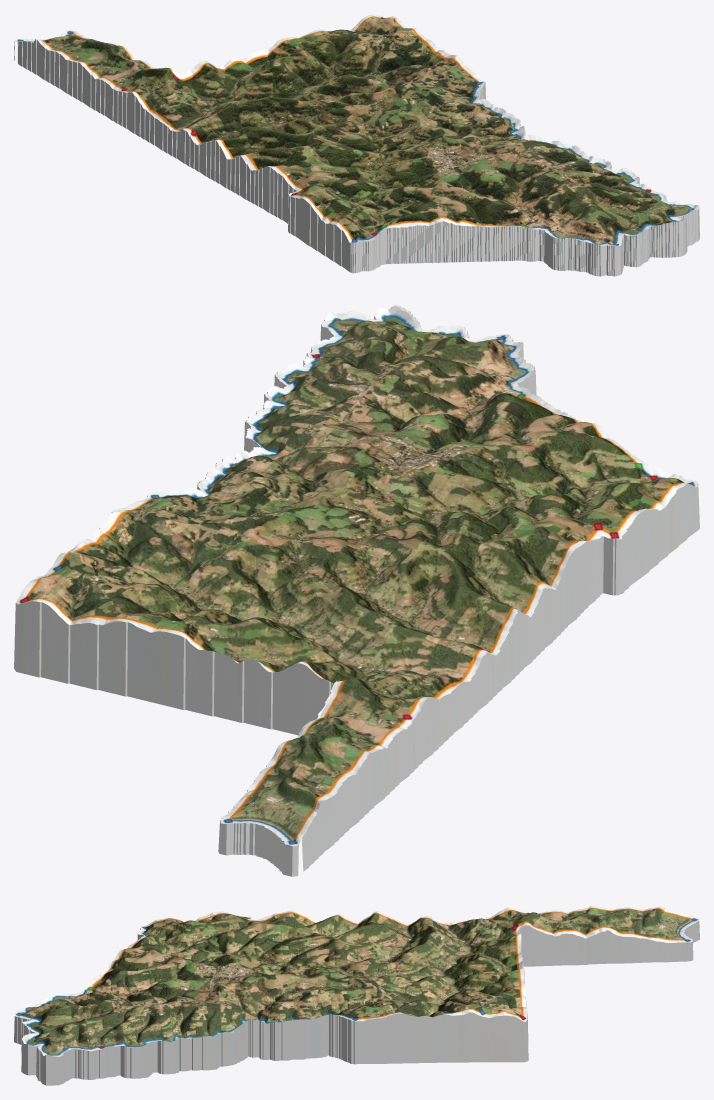
3 renders of one model, top to bottom at view 1: azimuth 30°, elevation 25°; view 2: azimuth 150°, elevation 25°; view 3: azimuth 270°, elevation 25°, orthographic. The views are drawn at different scales.
Size of the model in its own units: 0.9999 by 0.1591 by 1.94.
Materials: 1 (1 with a texture image).
